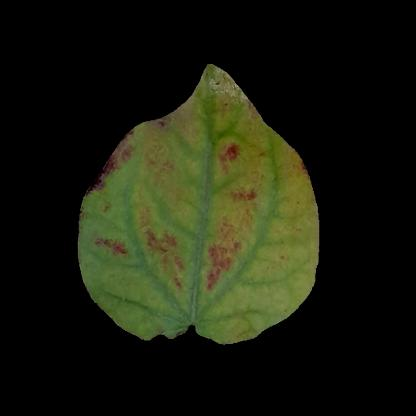curl_stage1: (157, 127, 291, 310), (102, 190, 156, 281)
